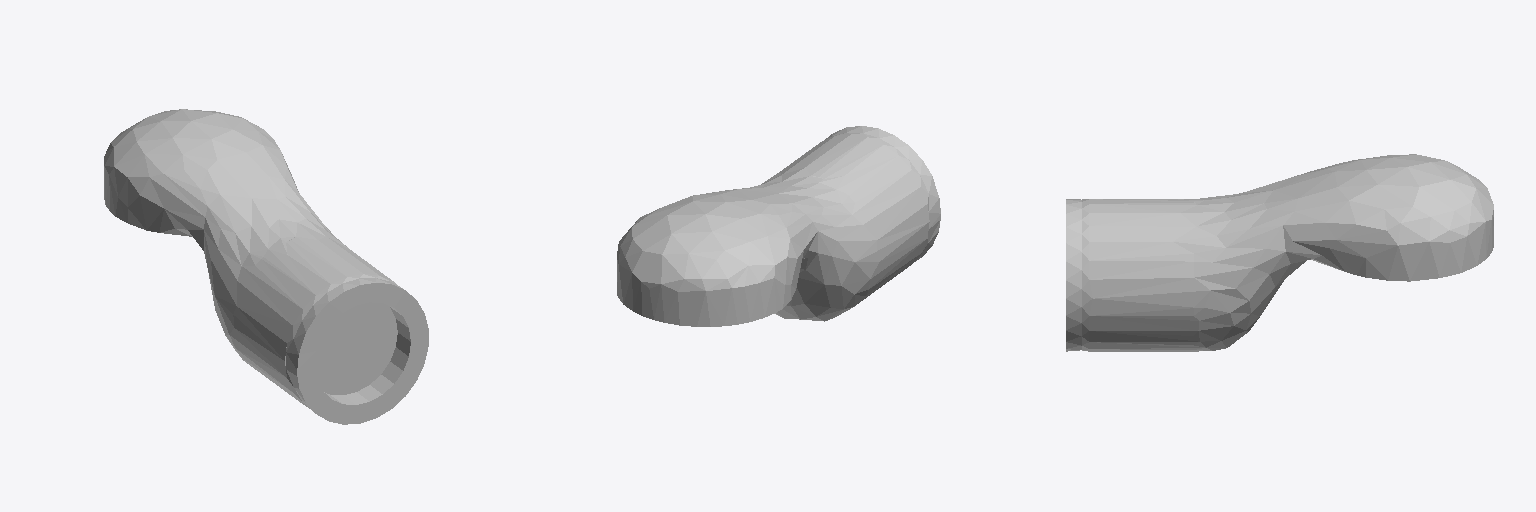
Rendered from dual_rm_75b_description_r_link4_collisions_r_link4_mesh.obj.
3 renders of one model, left to right at view 1: azimuth 30°, elevation 25°; view 2: azimuth 150°, elevation 25°; view 3: azimuth 270°, elevation 25°, orthographic.
Bounding box in the file's own units: 0.0681 × 0.0741 × 0.1624.